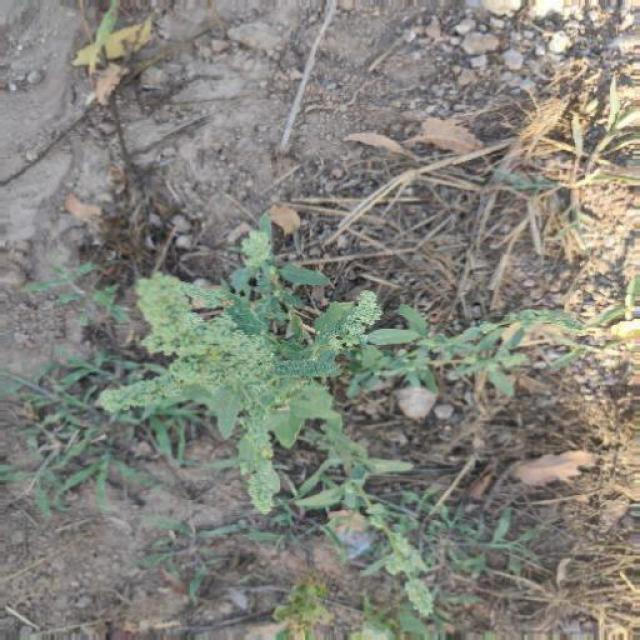weed: (110, 246, 509, 544)
